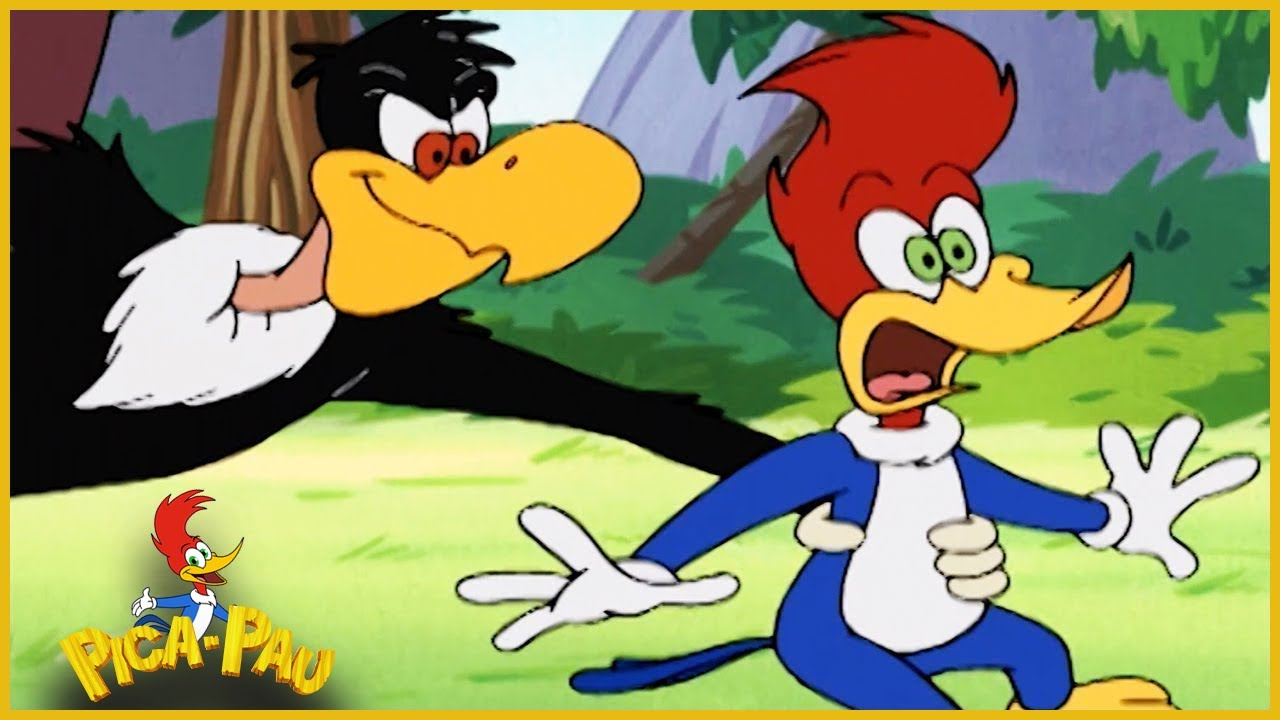picapau: (642, 11, 1261, 714), (140, 480, 243, 643)
urubu: (1, 21, 689, 492)
